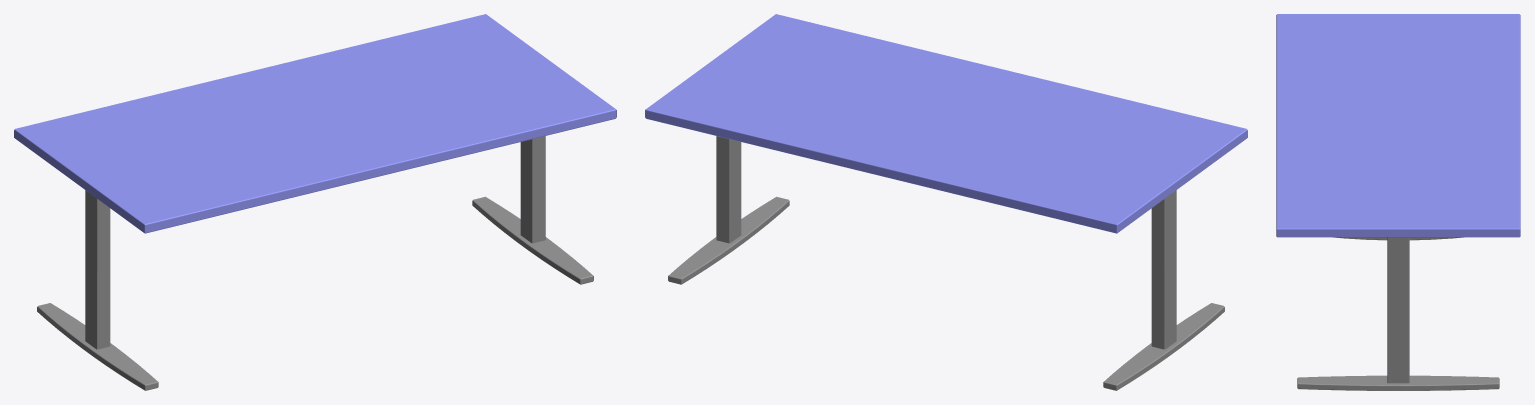
The model's file is Single.FBX.
3 views of the same model, side by side, from view 1: azimuth 30°, elevation 25°; view 2: azimuth 150°, elevation 25°; view 3: azimuth 270°, elevation 25° (orthographic). The views are drawn at different scales.
Parts seen in each view (by area): view 1: MESH, Object001, Object; view 2: MESH, Object001, Object; view 3: MESH, Object.
Part boxes in pixels (x1,y1,x2,y2): MESH: (14,14,616,233); Object001: (37,190,158,390); Object: (472,136,593,284); MESH: (645,14,1247,233); Object001: (1103,190,1224,390); Object: (668,136,789,284); MESH: (1276,14,1520,237); Object: (1297,237,1499,390).
Size of what is drawn, in the model's own units: 250 by 90 by 120.
